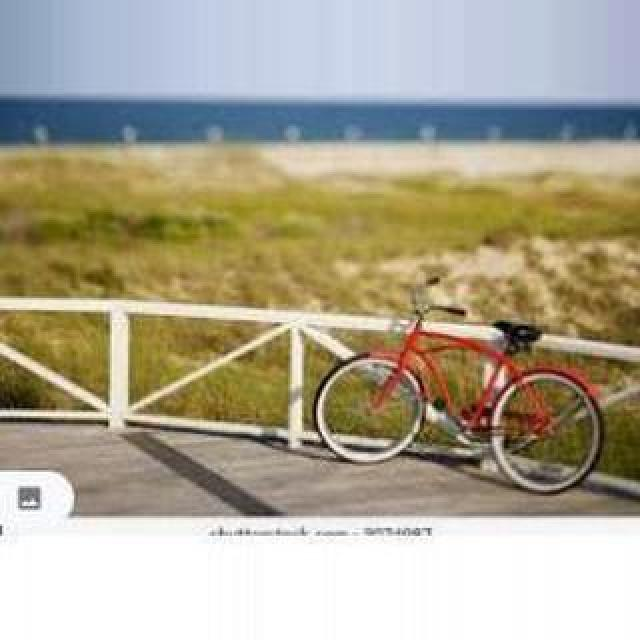Person: (313, 281, 607, 493)
